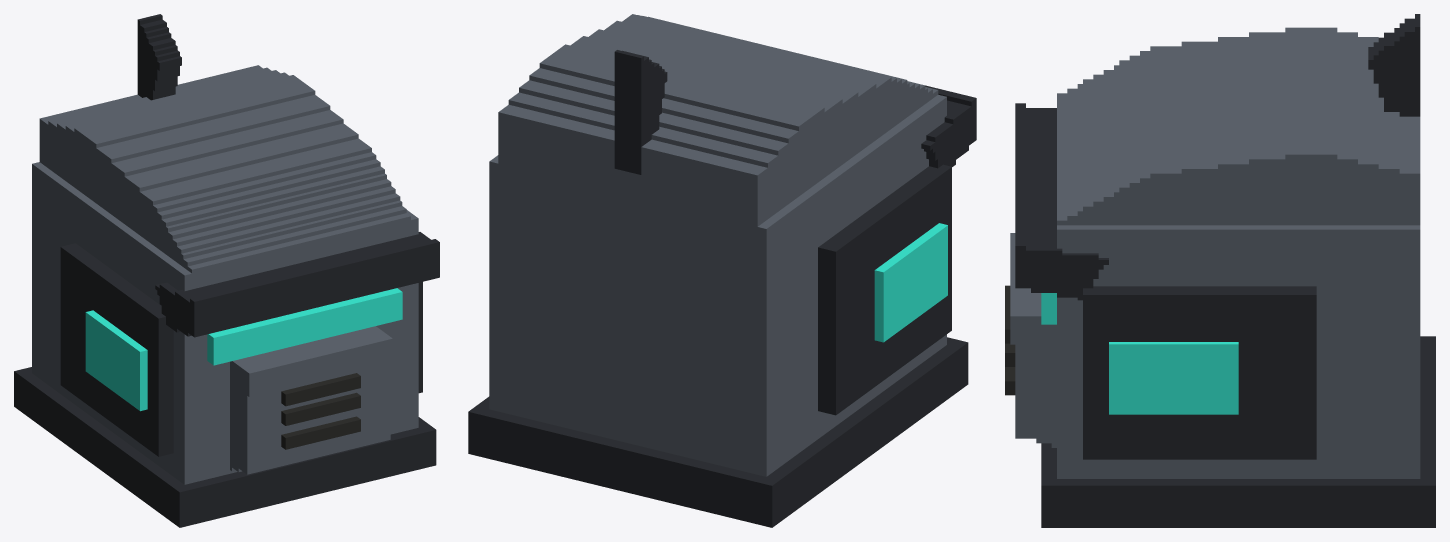
File: helmet_power.glb
3 renders of one model, left to right at view 1: azimuth 30°, elevation 25°; view 2: azimuth 150°, elevation 25°; view 3: azimuth 270°, elevation 25°, orthographic. The views are drawn at different scales.
Parts seen in each view (by area): view 1: helmet_power:compound; view 2: helmet_power:compound; view 3: helmet_power:compound.
Boxes of the visible parts, x1,y1,x2,y2 form: helmet_power:compound: (14,14,439,527); helmet_power:compound: (468,14,976,527); helmet_power:compound: (1005,14,1435,527).
Size of the model in its own units: 0.292 by 0.368 by 0.332.
